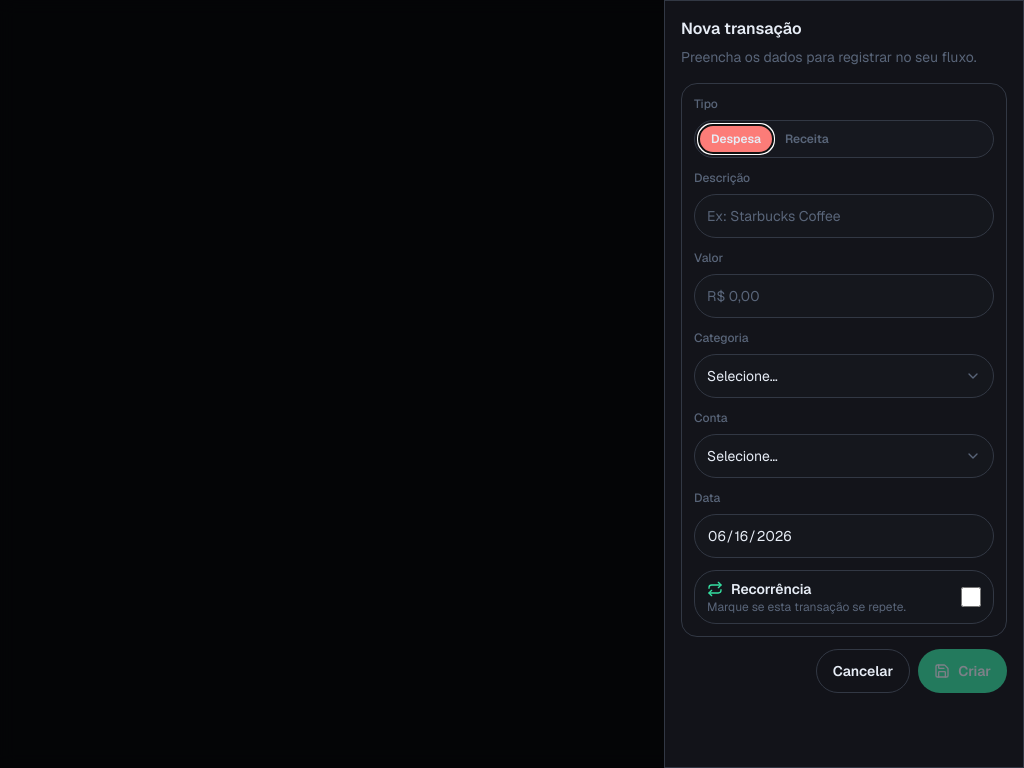
Test: TransactionFormSheet › clears fields when the sheet is cancelled
Type "Almoço" into the field with placeholder "Ex: Starbucks Coffee". click: (844, 216)
box: top-left (694, 194), bottom-right (994, 238)
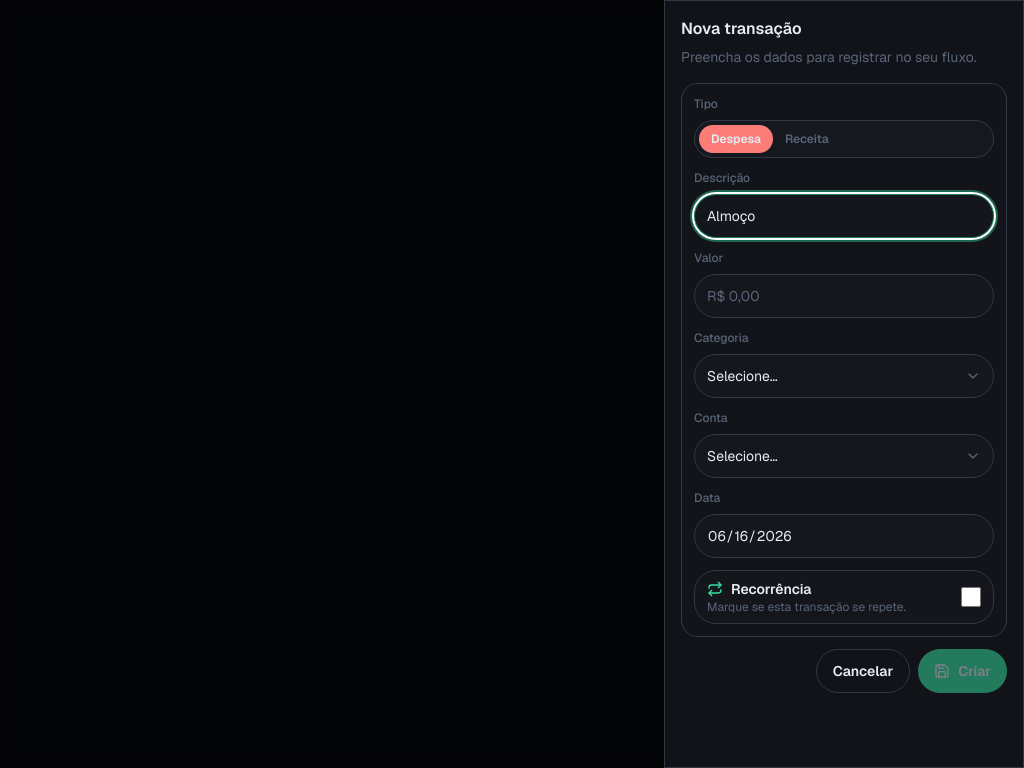
Click the button "Cancelar". click: (863, 671)
box: top-left (816, 649), bottom-right (910, 693)
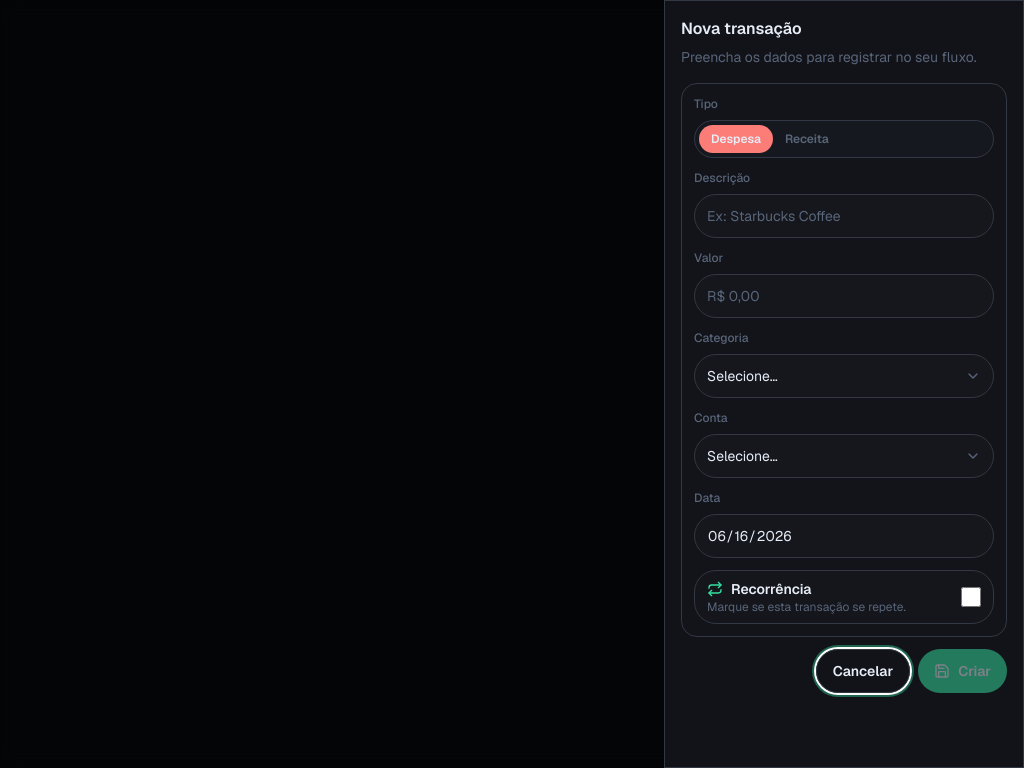
Result: the field with placeholder "Ex: Starbucks Coffee" is empty at top-left (694, 194), bottom-right (994, 238)
